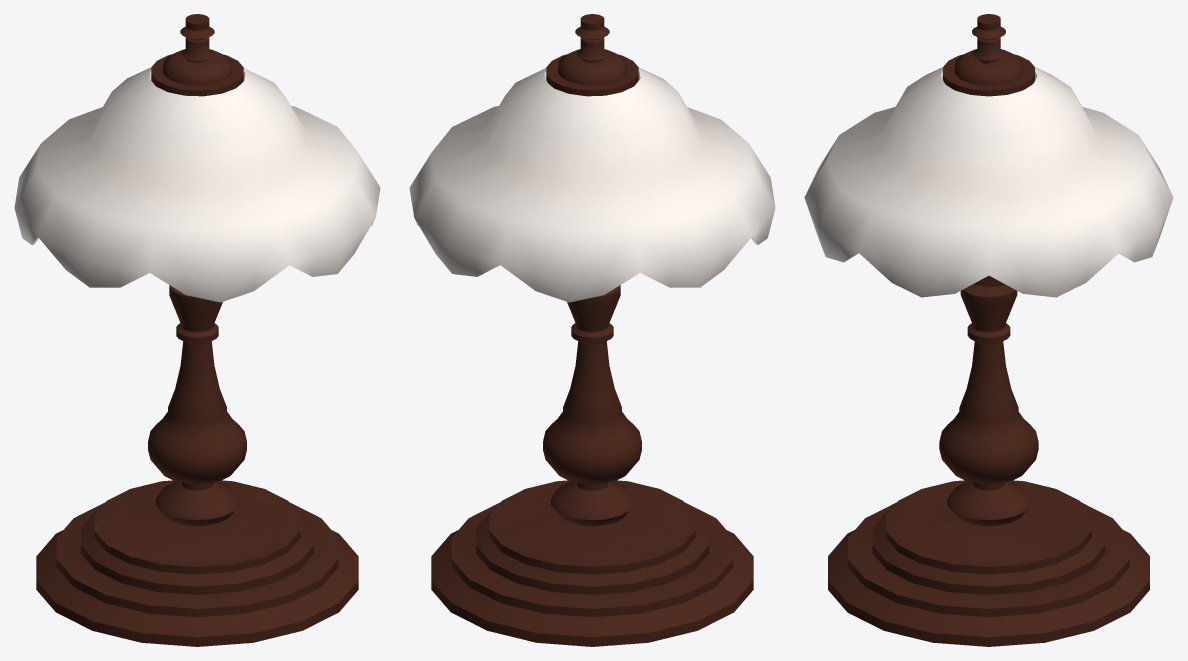
Rendered from desk_lamp (1).glb.
3 views of the same model, side by side, from view 1: azimuth 30°, elevation 25°; view 2: azimuth 150°, elevation 25°; view 3: azimuth 270°, elevation 25° (orthographic).
Parts seen in each view (by area): view 1: Sphere001, Cylinder002; view 2: Sphere001, Cylinder002; view 3: Sphere001, Cylinder002.
Boxes of the visible parts, left/top/right/bottom form: Sphere001: left=14, top=67, right=380, bottom=302; Cylinder002: left=36, top=14, right=358, bottom=646; Sphere001: left=409, top=67, right=775, bottom=302; Cylinder002: left=431, top=14, right=753, bottom=646; Sphere001: left=804, top=67, right=1173, bottom=297; Cylinder002: left=828, top=14, right=1149, bottom=646.
Size of the model in its own units: 0.6693 by 1.12 by 0.6693.
Materials: 2 (2 with a texture image).
